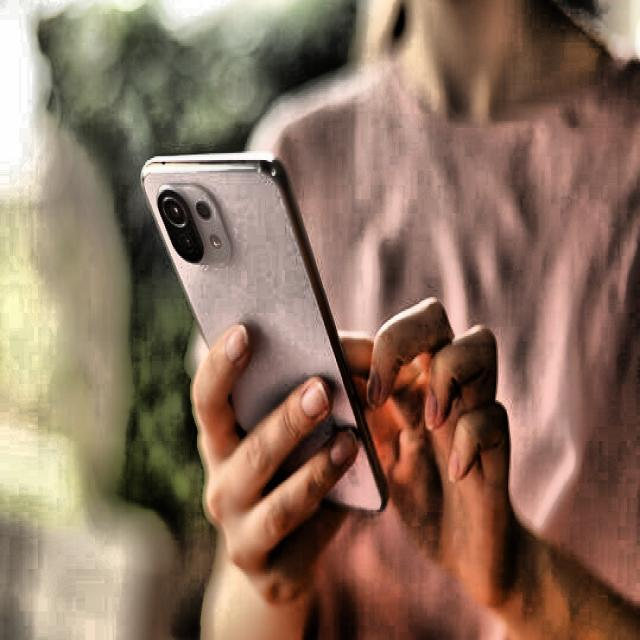Phone: (138, 148, 390, 518)
